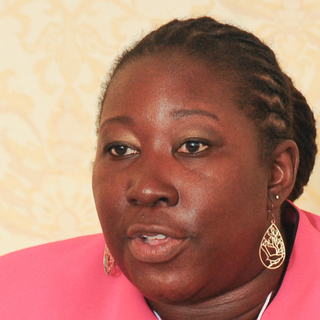eye: (172, 133, 219, 161), (99, 138, 143, 164)
